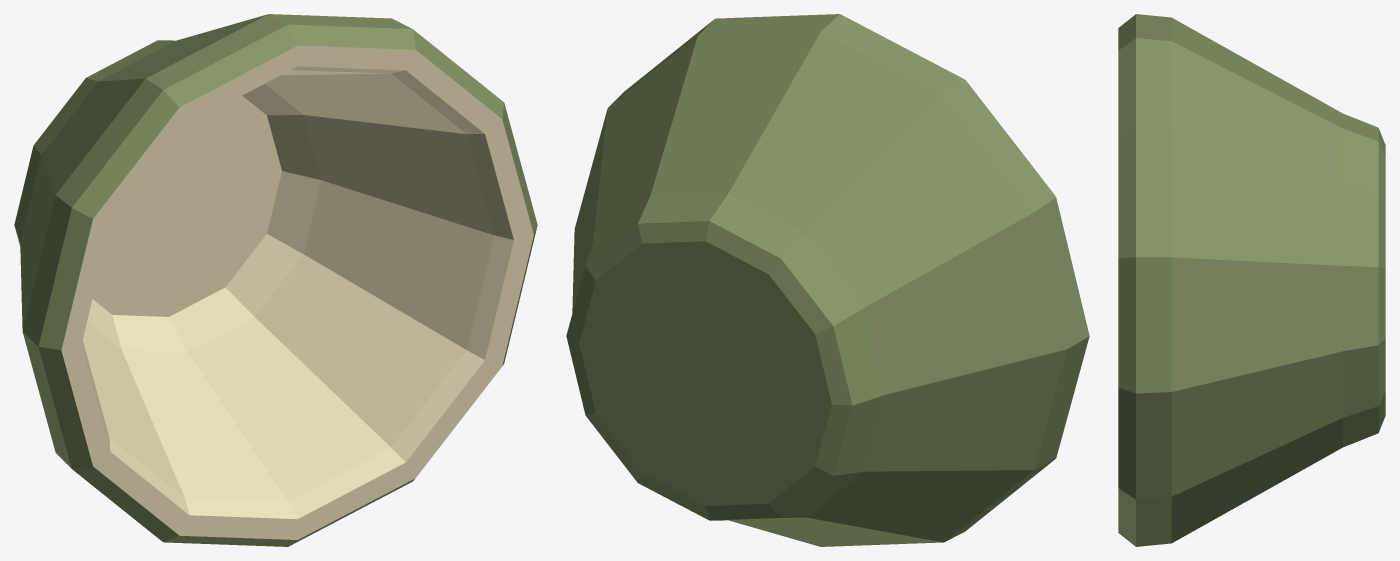
The model's file is bowl.glb.
3 renders of one model, left to right at view 1: azimuth 30°, elevation 25°; view 2: azimuth 150°, elevation 25°; view 3: azimuth 270°, elevation 25°, orthographic. The views are drawn at different scales.
Visible parts, largest first — view 1: bowl; view 2: bowl; view 3: bowl.
Boxes of the visible parts, x1,y1,x2,y2 form: bowl: [14, 14, 537, 546]; bowl: [566, 14, 1089, 546]; bowl: [1118, 14, 1385, 546].
Size of the model in its own units: 0.15 by 0.15 by 0.075.
